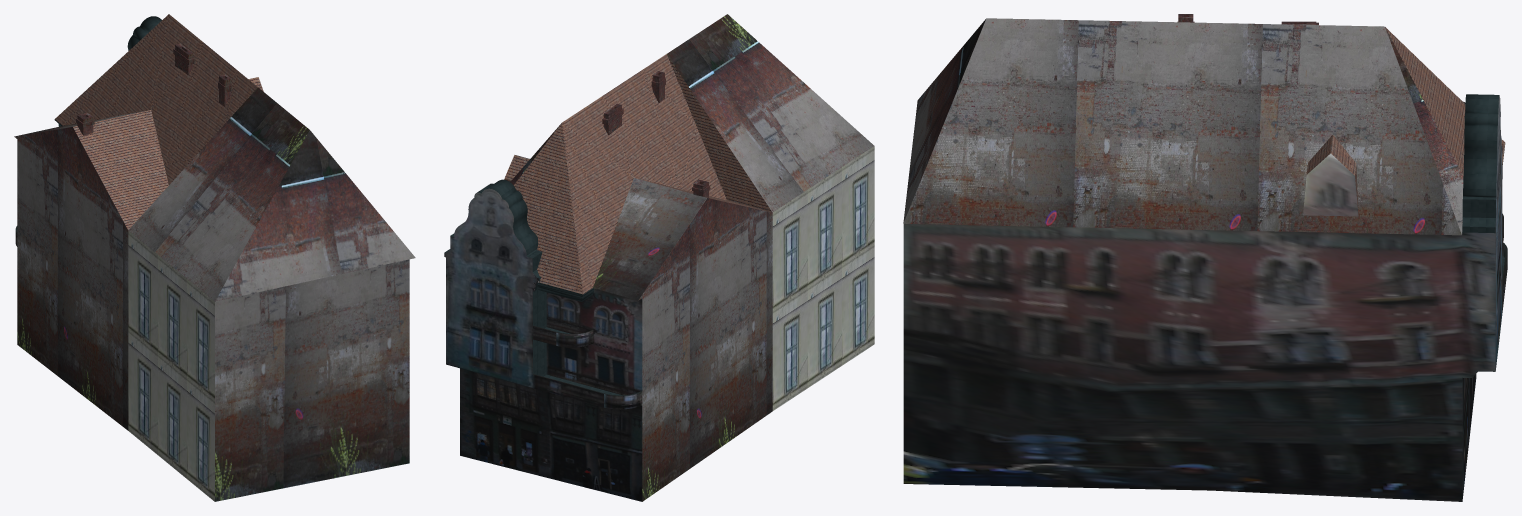
The model's file is bruck.glb.
3 renders of one model, left to right at view 1: azimuth 30°, elevation 25°; view 2: azimuth 150°, elevation 25°; view 3: azimuth 270°, elevation 25°, orthographic. The views are drawn at different scales.
Visible parts, largest first — view 1: _C-Bruck Palace (Loose Mesh), G-Object.003, G-Object.004; view 2: _C-Bruck Palace (Loose Mesh), G-Object.003; view 3: _C-Bruck Palace (Loose Mesh), G-Object.002.
Boxes of the visible parts, x1,y1,x2,y2 form: _C-Bruck Palace (Loose Mesh): [14, 14, 415, 501]; G-Object.003: [63, 14, 257, 184]; G-Object.004: [173, 43, 194, 75]; _C-Bruck Palace (Loose Mesh): [444, 14, 874, 501]; G-Object.003: [562, 54, 726, 287]; _C-Bruck Palace (Loose Mesh): [903, 18, 1507, 501]; G-Object.002: [1303, 134, 1358, 216].
Bounding box in the file's own units: 17.33 × 25.7 × 32.78.
Materials: 9 (9 with a texture image).
